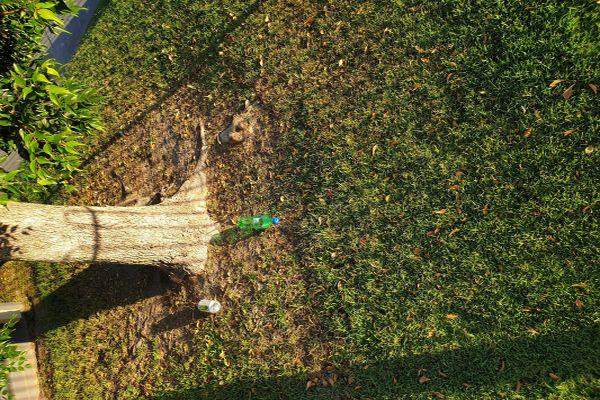Plastic Bottle: (238, 214, 280, 231), (196, 299, 222, 314)
